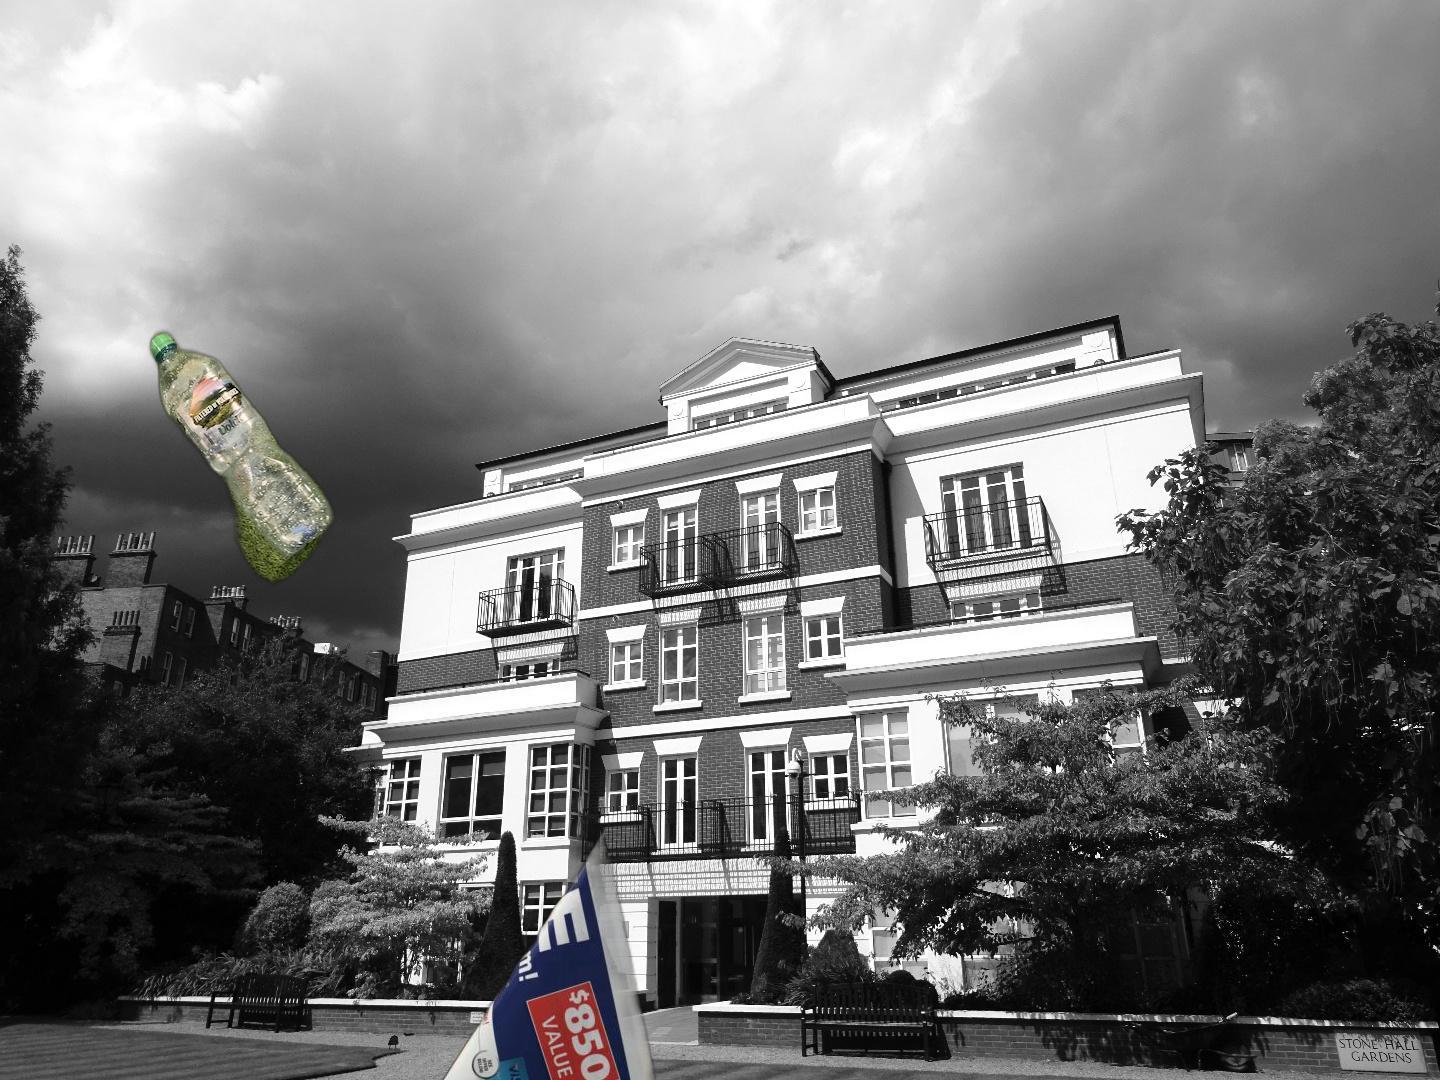paper: (376, 820, 766, 1080)
plastic-bottles: (145, 326, 342, 589)
